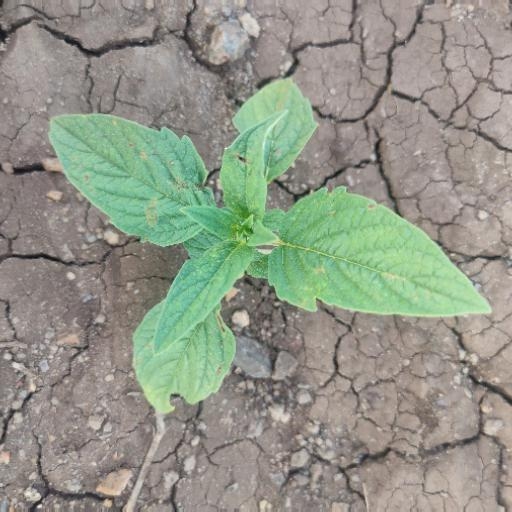weed: (45, 74, 491, 426)
